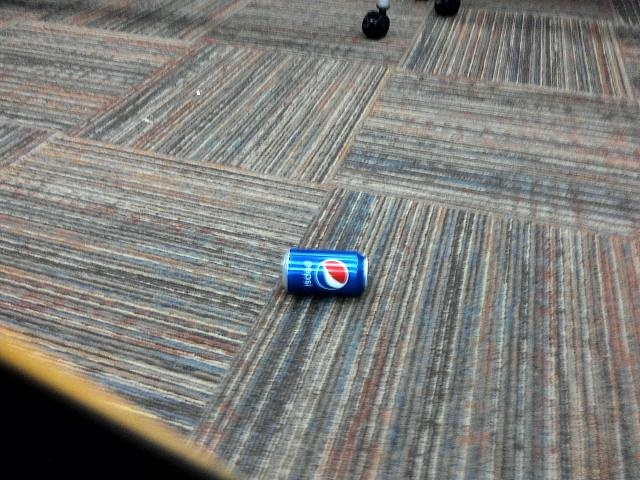can: (273, 231, 377, 307)
